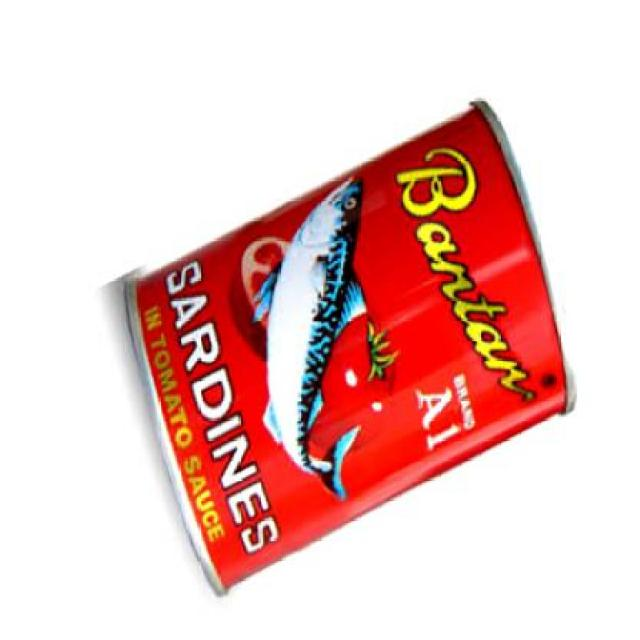Metal: (126, 99, 578, 597)
